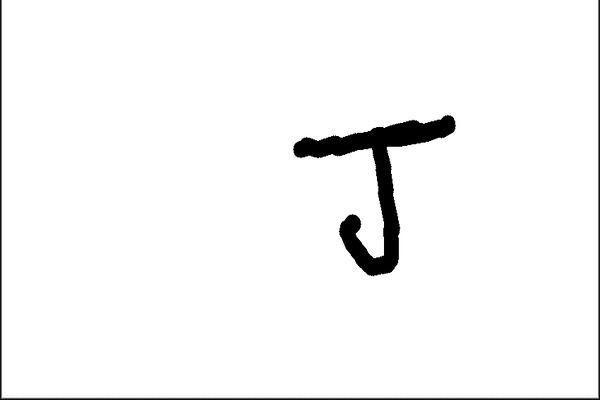J: (287, 106, 459, 280)
